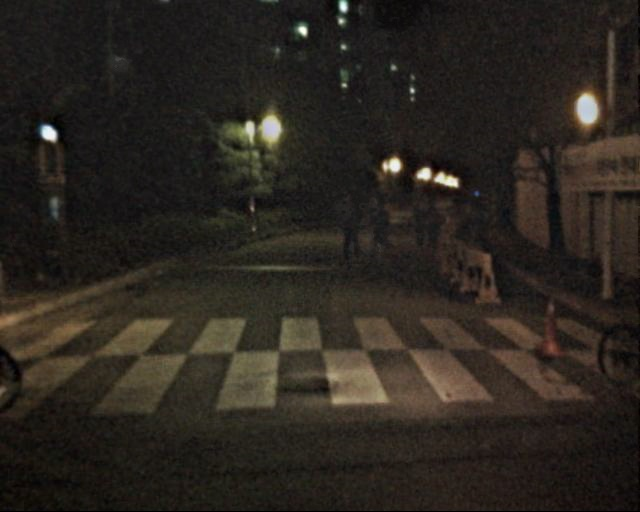person: (330, 188, 362, 266), (359, 190, 389, 264), (408, 191, 431, 246), (419, 193, 441, 247)
